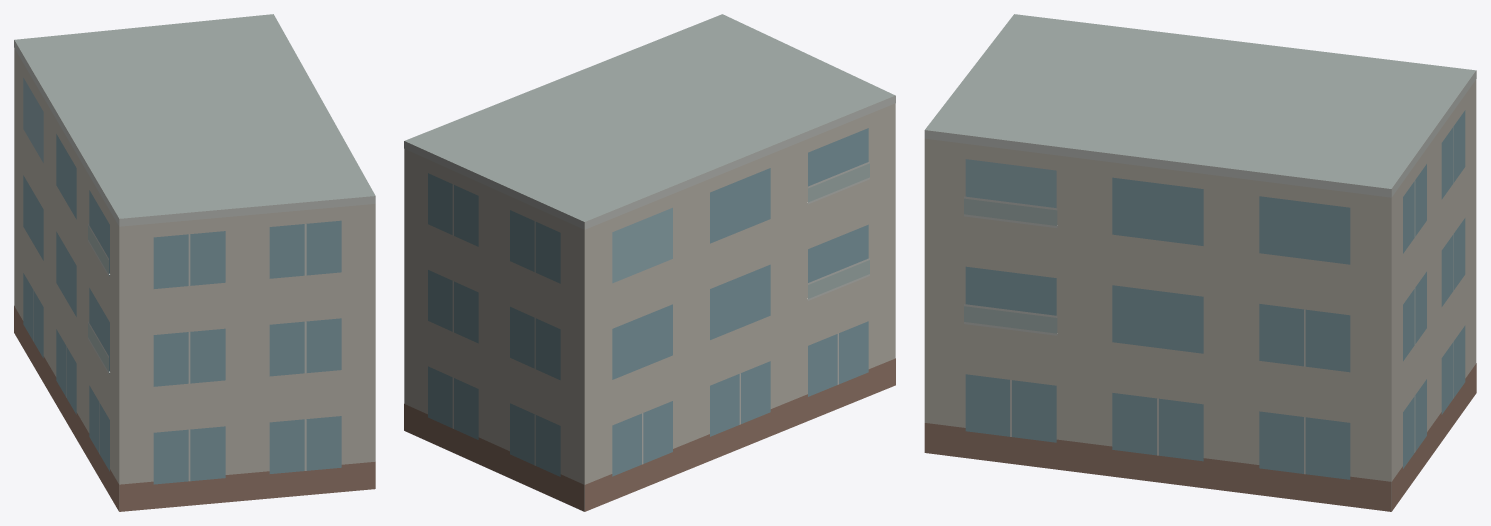
The model's file is survey-upis-33014110.glb.
3 renders of one model, left to right at view 1: azimuth 30°, elevation 25°; view 2: azimuth 150°, elevation 25°; view 3: azimuth 270°, elevation 25°, orthographic. The views are drawn at different scales.
Parts seen in each view (by area): view 1: survey-upis-33014110.tmp; view 2: survey-upis-33014110.tmp; view 3: survey-upis-33014110.tmp.
Boxes of the visible parts, x1,y1,x2,y2 form: survey-upis-33014110.tmp: (14, 14, 375, 511); survey-upis-33014110.tmp: (404, 14, 895, 511); survey-upis-33014110.tmp: (924, 14, 1476, 511).
Bounding box in the file's own units: 10.65 × 9.15 × 14.18.
